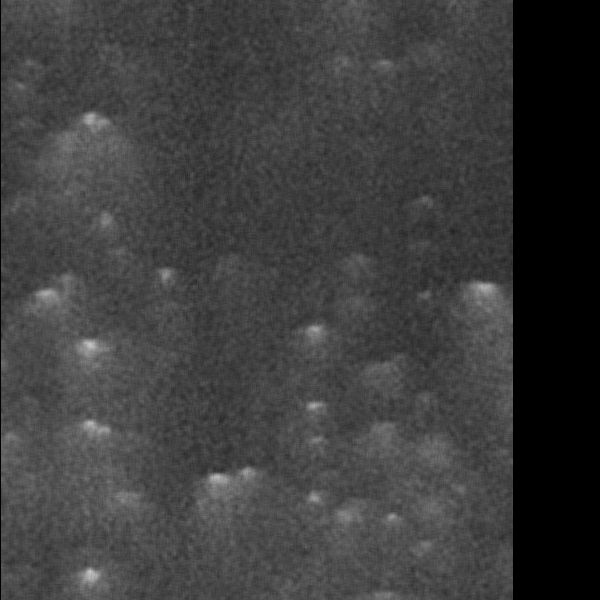spark: (359, 414, 406, 489), (462, 277, 508, 336), (195, 468, 242, 523), (46, 126, 91, 181), (67, 334, 107, 389), (27, 284, 71, 330), (69, 108, 115, 151), (69, 414, 105, 463), (325, 502, 366, 543), (107, 480, 144, 512), (300, 319, 328, 355), (77, 566, 105, 600), (294, 397, 328, 424), (153, 264, 174, 302), (91, 207, 118, 234), (411, 189, 439, 214), (302, 489, 326, 515), (369, 55, 396, 77), (406, 536, 436, 555), (412, 287, 436, 309)
